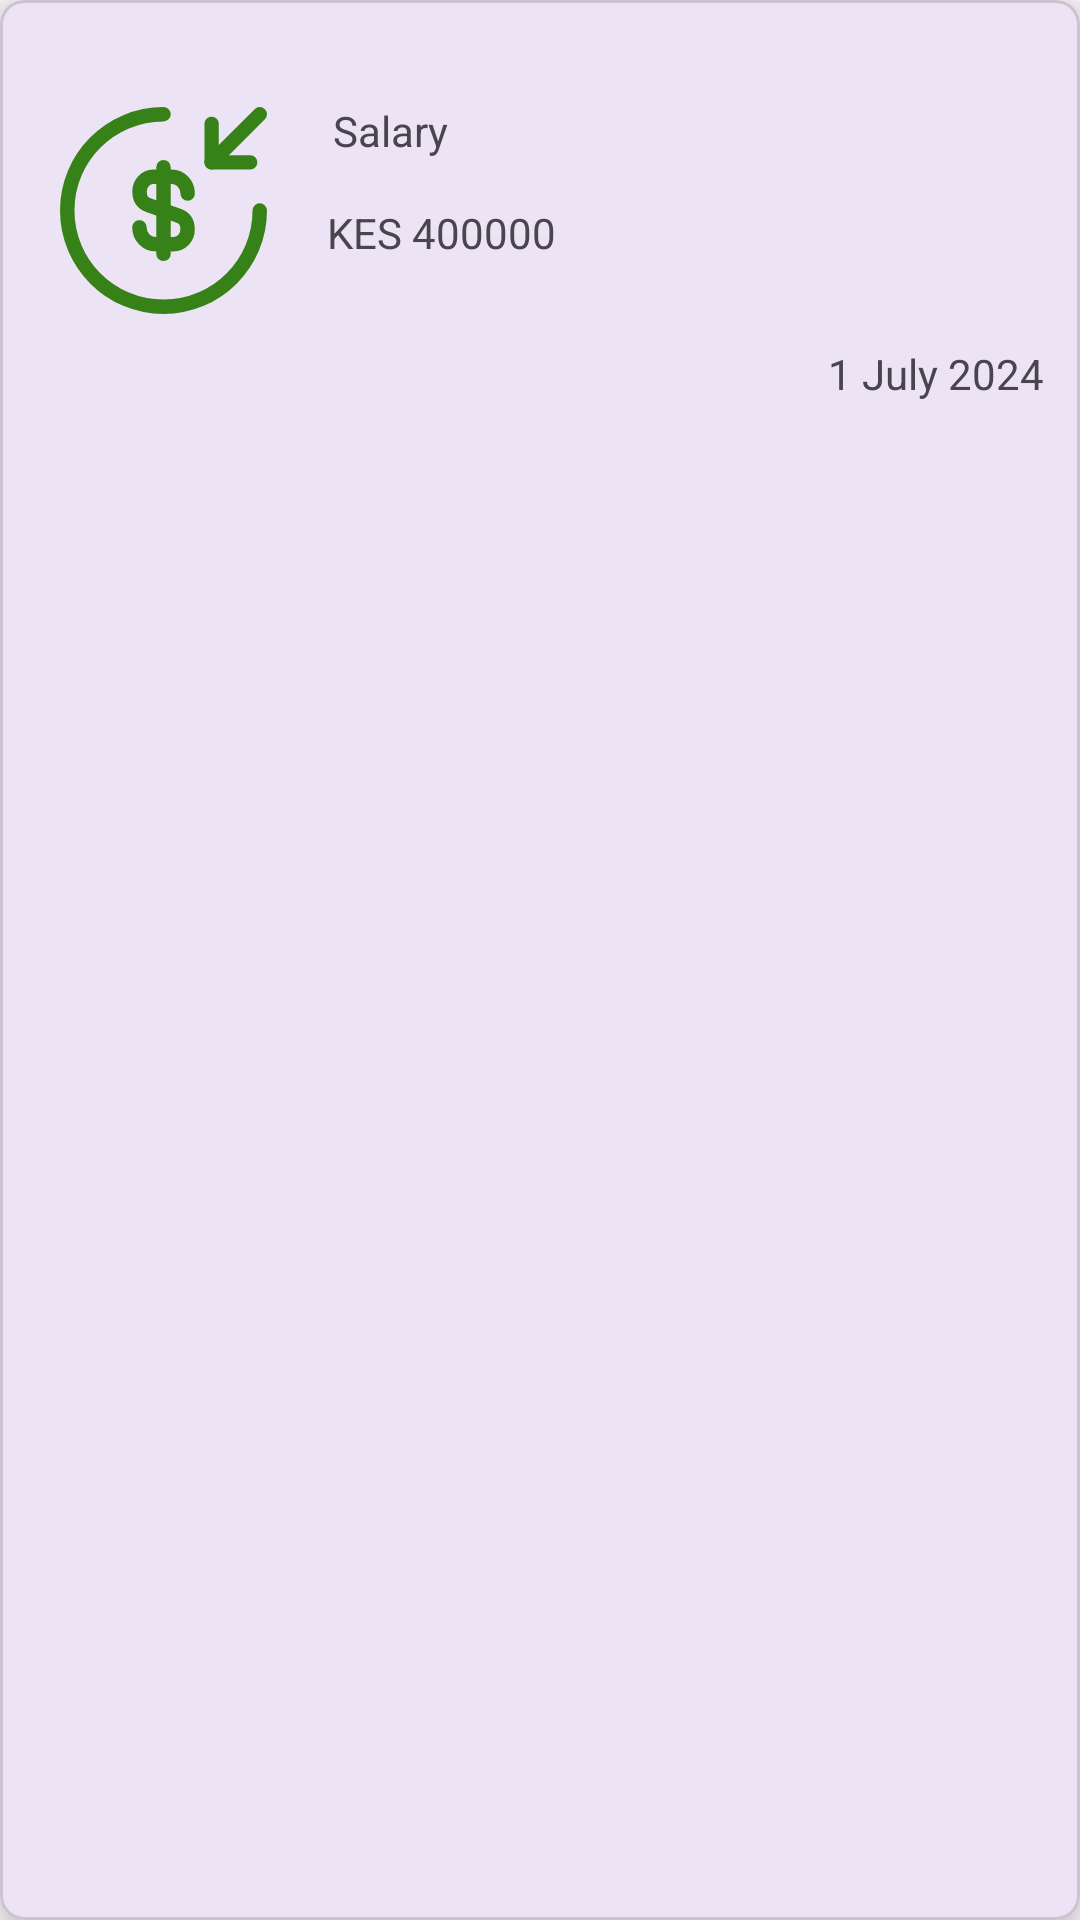

Named icons in this screenshot (1080px×1920px) and their centers, (x,y):
income trx: (163,210)
